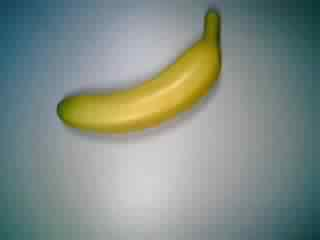banana: (56, 11, 223, 136)
